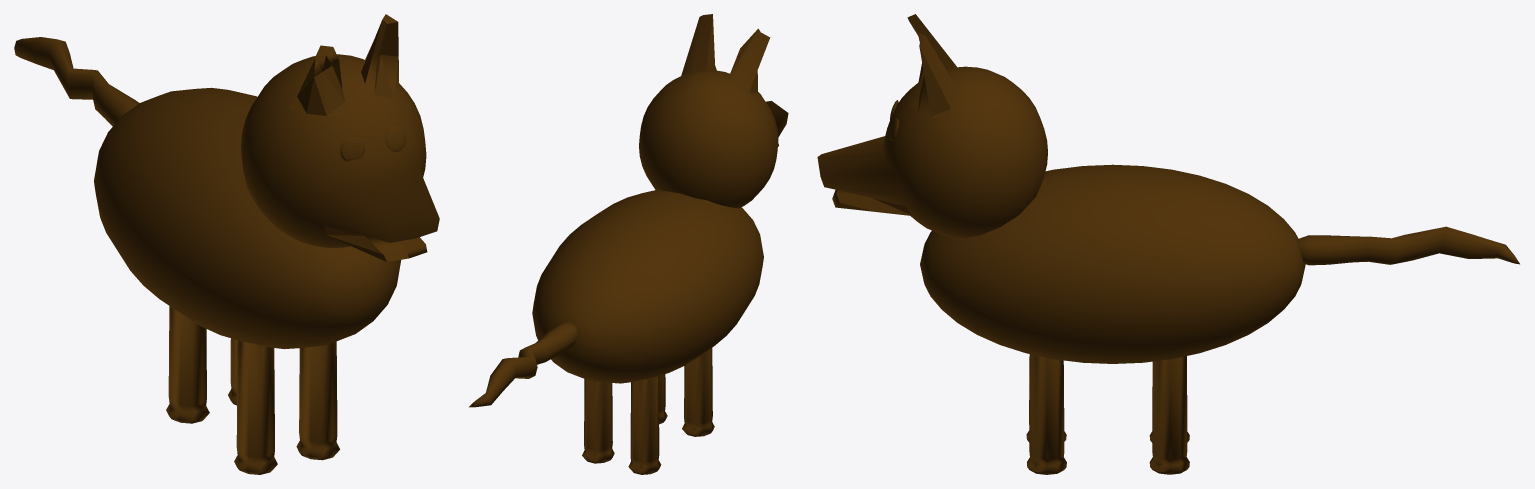
The model's file is Wolf.fbx.
The picture shows the model from 3 angles, left to right: view 1: azimuth 30°, elevation 25°; view 2: azimuth 150°, elevation 25°; view 3: azimuth 270°, elevation 25°; orthographic projection. The views are drawn at different scales.
Parts seen in each view (by area): view 1: pSphere1, pSphere2, pasted__pasted__pSphere006, pasted__pasted__pSphere4, pasted__pasted__pSphere007, pSphere4, pasted__pasted__pSphere005, pasted__pSphere4; view 2: pSphere1, pSphere2, pasted__pasted__pSphere007, pasted__pasted__pSphere005, pasted__pasted__pSphere006, pasted__pasted__pSphere4; view 3: pSphere1, pSphere2, pasted__pasted__pSphere4, pasted__pasted__pSphere005.
Part boxes in pixels (x1=…): pSphere1: x1=14, y1=37, x2=401, y2=349; pSphere2: x1=241, y1=14, x2=439, y2=261; pasted__pasted__pSphere006: x1=234, y1=340, x2=277, y2=474; pasted__pasted__pSphere4: x1=296, y1=341, x2=339, y2=460; pasted__pasted__pSphere007: x1=166, y1=306, x2=209, y2=423; pSphere4: x1=339, y1=136, x2=365, y2=161; pasted__pasted__pSphere005: x1=228, y1=338, x2=237, y2=405; pasted__pSphere4: x1=384, y1=126, x2=405, y2=151; pSphere1: x1=469, y1=189, x2=763, y2=407; pSphere2: x1=639, y1=14, x2=788, y2=208; pasted__pasted__pSphere007: x1=628, y1=376, x2=661, y2=474; pasted__pasted__pSphere005: x1=582, y1=379, x2=614, y2=463; pasted__pasted__pSphere006: x1=682, y1=348, x2=714, y2=436; pasted__pasted__pSphere4: x1=658, y1=374, x2=667, y2=424; pSphere1: x1=920, y1=164, x2=1519, y2=363; pSphere2: x1=817, y1=14, x2=1047, y2=237; pasted__pasted__pSphere4: x1=1027, y1=354, x2=1066, y2=474; pasted__pasted__pSphere005: x1=1149, y1=356, x2=1189, y2=474.
Size of the model in its own units: 88.85 by 190 by 279.
